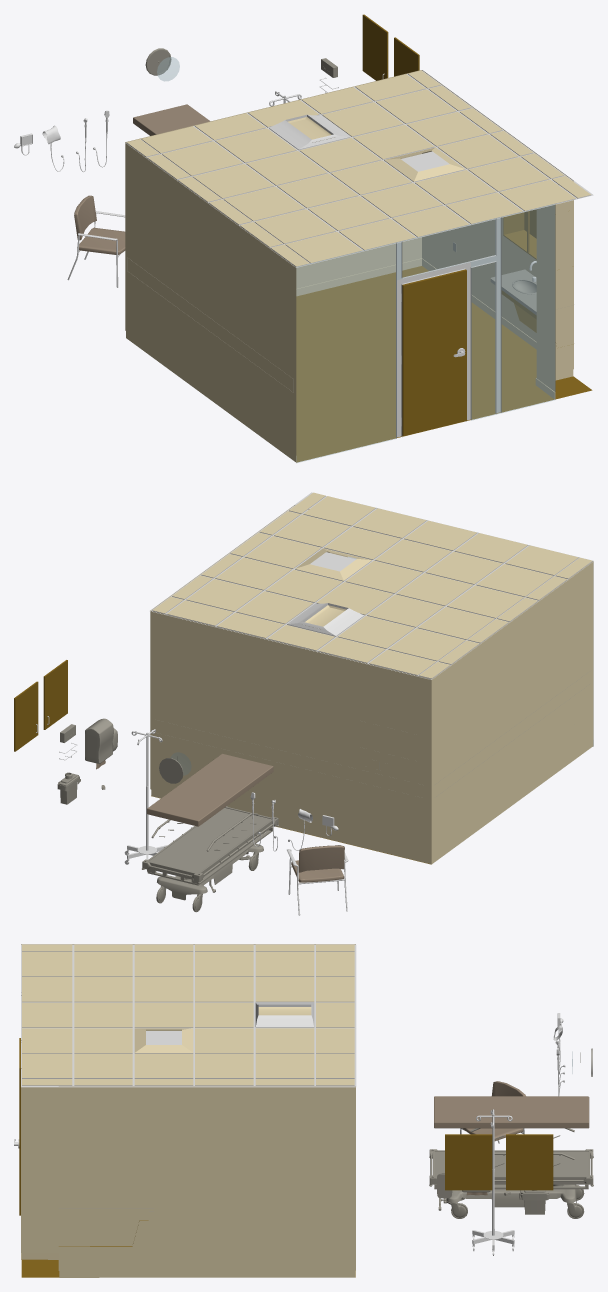
The model's file is ER_Room_Expanded.fbx.
3 renders of one model, top to bottom at view 1: azimuth 30°, elevation 25°; view 2: azimuth 150°, elevation 25°; view 3: azimuth 270°, elevation 25°, orthographic. The views are drawn at different scales.
Visible parts, largest first — view 1: Walls, Ceiling, Glass, Floor, Door_Entrance, Board (×2), Chair1, Sink, Matress, Cabinet_Wall; view 2: Walls, Ceiling, Frame, Matress, Board (×2), Chair1, Bottom, Base, IVstand; view 3: Walls, Ceiling, Board (×2), Matress, Frame, Bottom, IVstand, Chair1, Floor, Sharps_Container.
Part boxes in pixels (x1=…): Walls: x1=125, y1=70, x2=573, y2=462; Ceiling: x1=125, y1=70, x2=593, y2=267; Glass: x1=296, y1=204, x2=554, y2=462; Floor: x1=296, y1=266, x2=592, y2=462; Door_Entrance: x1=402, y1=269, x2=466, y2=436; Board (×2): x1=362, y1=14, x2=419, y2=80; Chair1: x1=67, y1=195, x2=125, y2=287; Sink: x1=490, y1=261, x2=536, y2=332; Matress: x1=133, y1=104, x2=209, y2=135; Cabinet_Wall: x1=503, y1=209, x2=536, y2=259; Walls: x1=150, y1=505, x2=593, y2=864; Ceiling: x1=149, y1=492, x2=593, y2=679; Frame: x1=142, y1=806, x2=278, y2=885; Matress: x1=147, y1=753, x2=273, y2=826; Board (×2): x1=14, y1=660, x2=67, y2=751; Chair1: x1=287, y1=845, x2=348, y2=915; Bottom: x1=157, y1=844, x2=263, y2=900; Base: x1=85, y1=718, x2=113, y2=763; IVstand: x1=124, y1=729, x2=167, y2=869; Walls: x1=21, y1=944, x2=355, y2=1277; Ceiling: x1=21, y1=944, x2=356, y2=1087; Board (×2): x1=445, y1=1134, x2=553, y2=1190; Matress: x1=434, y1=1096, x2=589, y2=1128; Frame: x1=429, y1=1149, x2=593, y2=1189; Bottom: x1=438, y1=1184, x2=576, y2=1210; IVstand: x1=472, y1=1109, x2=514, y2=1255; Chair1: x1=460, y1=1081, x2=525, y2=1143; Floor: x1=21, y1=1259, x2=355, y2=1277; Sharps_Container: x1=519, y1=1190, x2=549, y2=1214.
Bounding box in the file's own units: 16.52 × 9.2 × 24.47.
